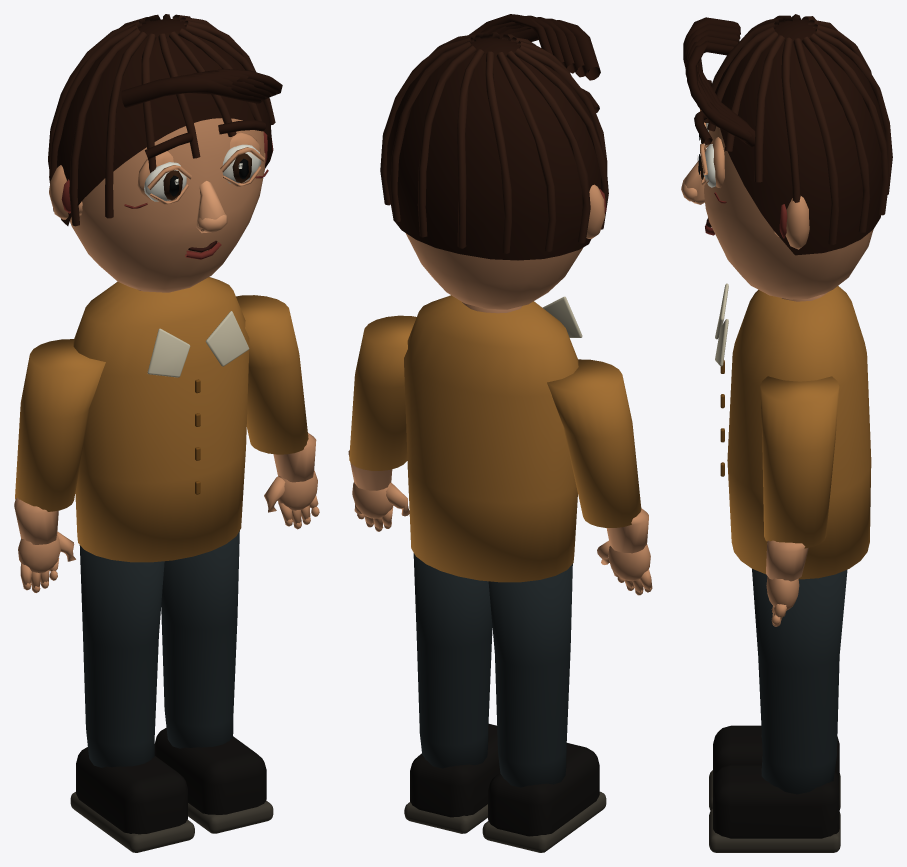
Rendered from patient-09.glb.
The picture shows the model from 3 angles, left to right: view 1: azimuth 30°, elevation 25°; view 2: azimuth 150°, elevation 25°; view 3: azimuth 270°, elevation 25°; orthographic projection.
Parts seen in each view (by area): view 1: Head, Body, LegL, LegR, ArmL, ArmR; view 2: Head, Body, LegL, LegR, ArmL, ArmR; view 3: Head, LegR, Body, ArmR, LegL.
Boxes of the visible parts, x1,y1,x2,y2 form: Head: (48, 14, 282, 292); Body: (73, 277, 249, 562); LegL: (70, 545, 194, 852); LegR: (154, 531, 273, 833); ArmL: (14, 339, 105, 592); ArmR: (236, 295, 319, 529); Head: (380, 14, 608, 313); Body: (404, 295, 582, 582); LegL: (482, 564, 606, 852); LegR: (404, 553, 500, 833); ArmL: (547, 359, 652, 595); ArmR: (348, 315, 416, 531); Head: (681, 14, 892, 301); LegR: (709, 569, 847, 852); Body: (715, 283, 871, 579); ArmR: (760, 376, 839, 626); LegL: (709, 725, 840, 810).
Size of the model in its own units: 0.5759 by 1.45 by 0.3514.
